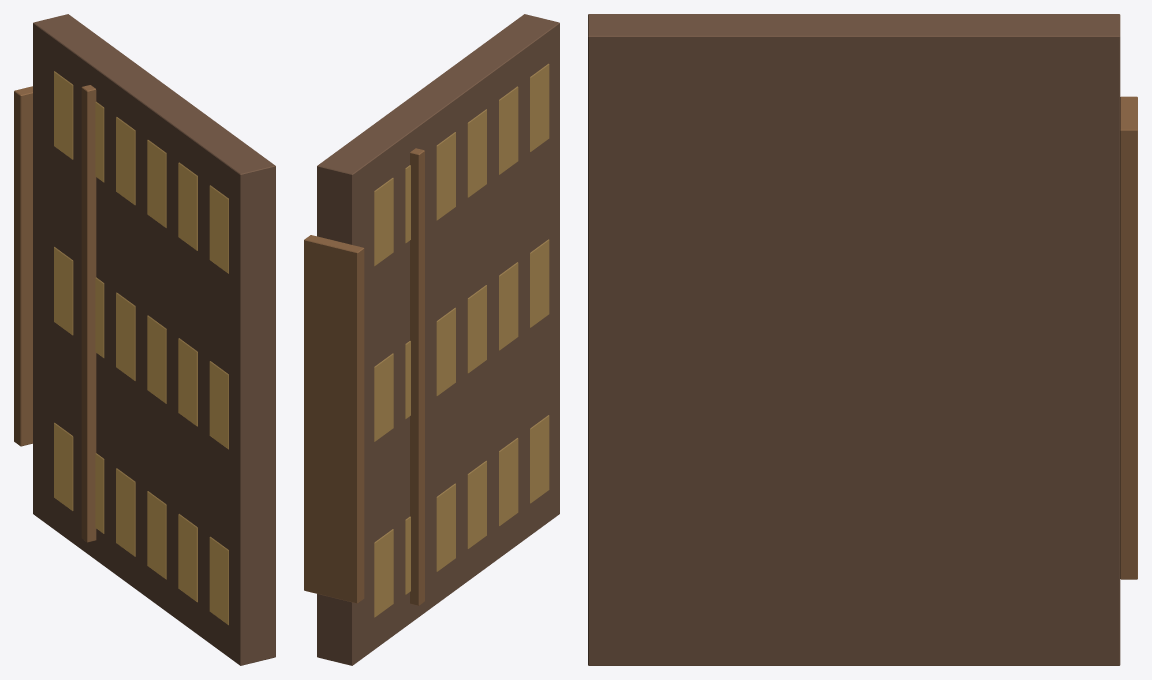
Rendered from far_facade_shell_canyon_r.glb.
The picture shows the model from 3 angles, left to right: view 1: azimuth 30°, elevation 25°; view 2: azimuth 150°, elevation 25°; view 3: azimuth 270°, elevation 25°; orthographic projection. The views are drawn at different scales.
Parts seen in each view (by area): view 1: FlightKit_FarFacadeShell_canyon_R; view 2: FlightKit_FarFacadeShell_canyon_R; view 3: FlightKit_FarFacadeShell_canyon_R.
Part boxes in pixels (x1,y1,x2,y2): FlightKit_FarFacadeShell_canyon_R: [14, 14, 275, 665]; FlightKit_FarFacadeShell_canyon_R: [304, 14, 559, 665]; FlightKit_FarFacadeShell_canyon_R: [588, 14, 1137, 665].
Size of the model in its own units: 1.8 by 15.68 by 12.4.
